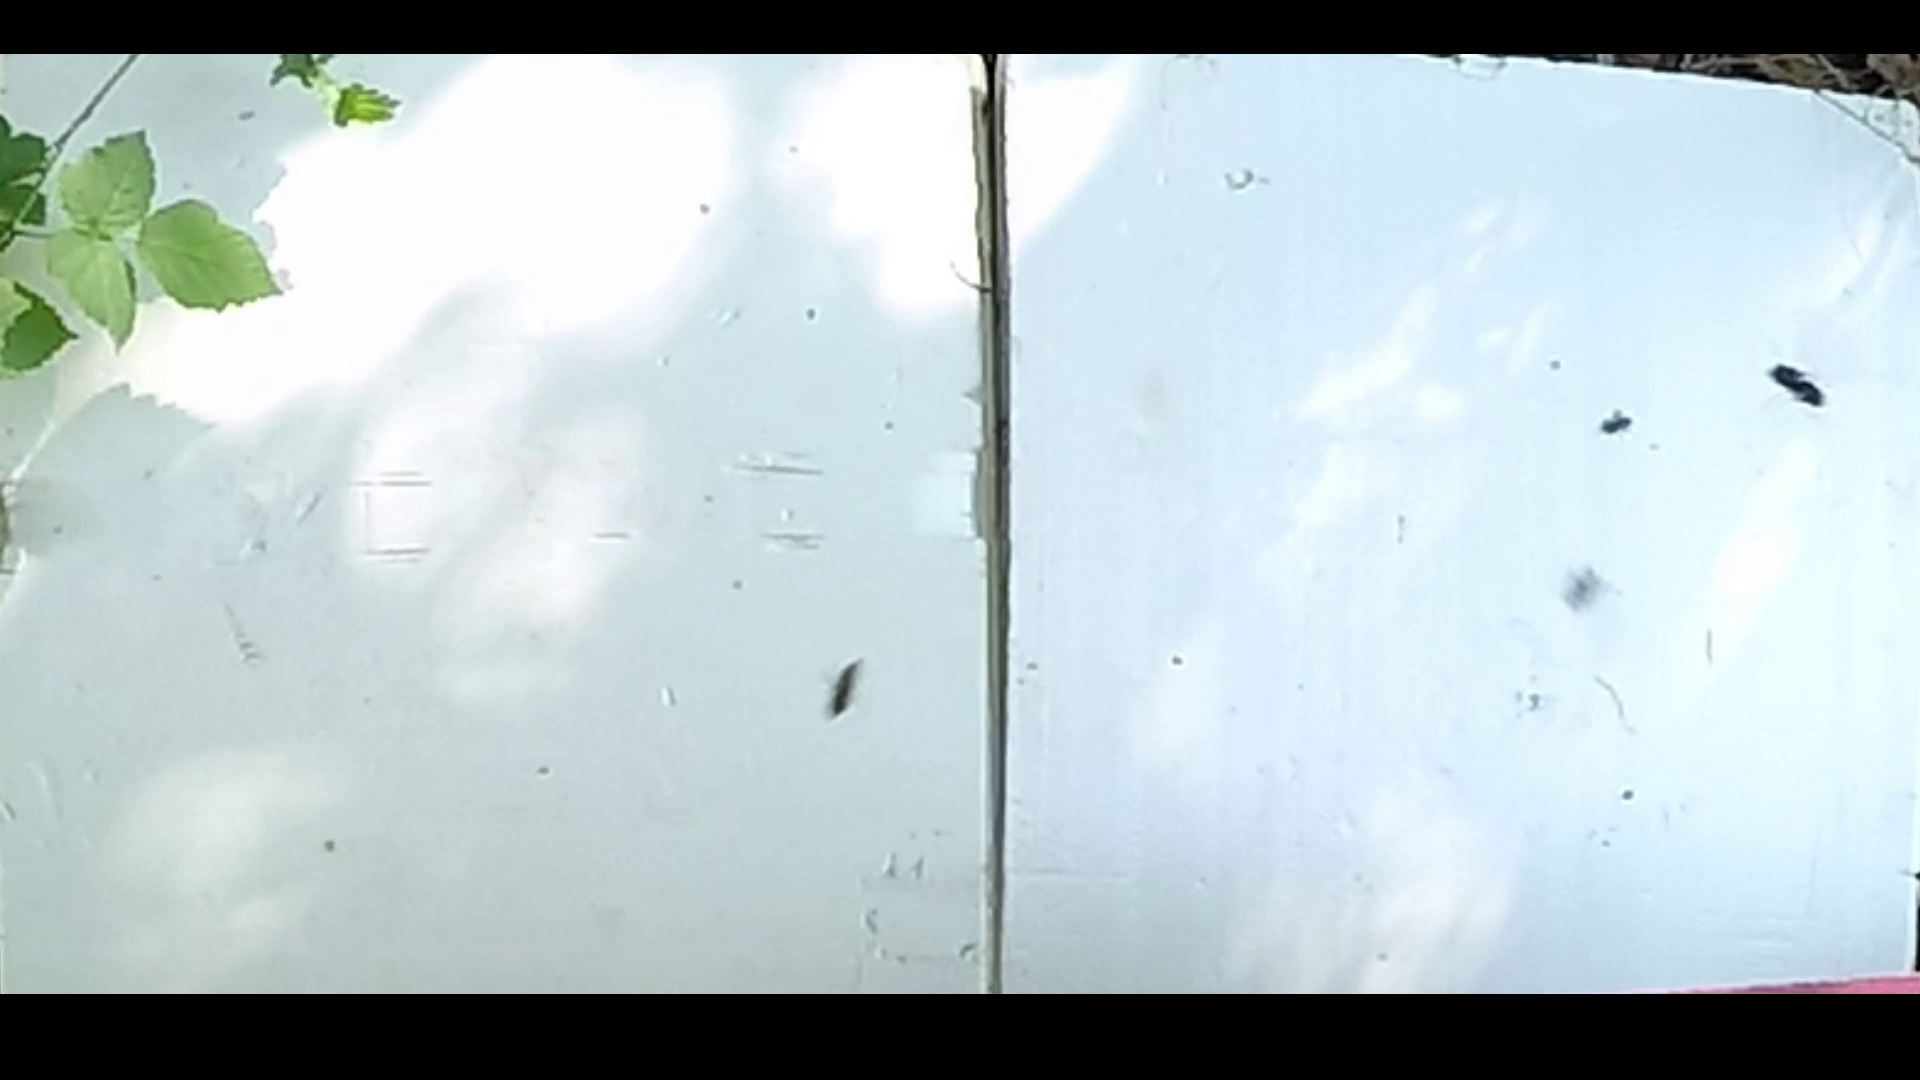Asian_hornets: (1747, 336, 1853, 427)
